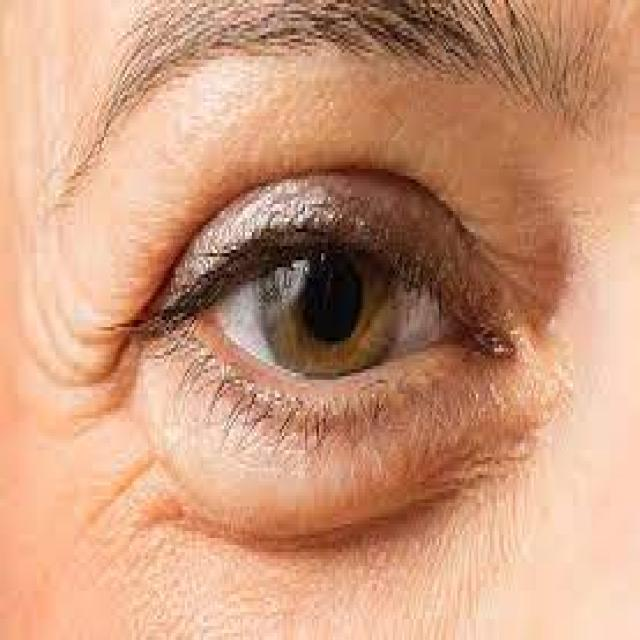Eyes-iris: (252, 222, 409, 380)
